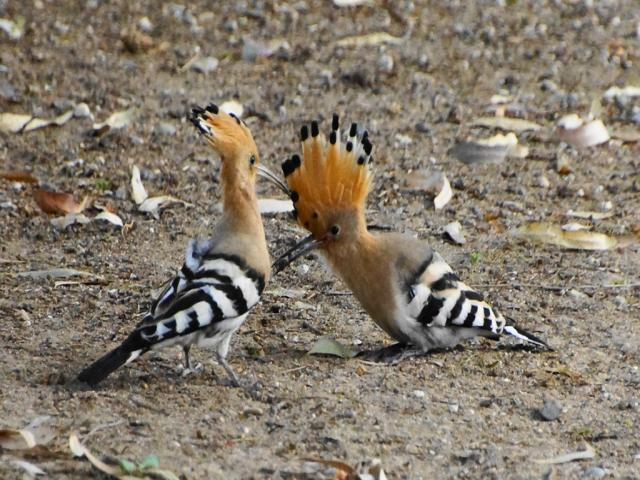Bird: (269, 110, 548, 372), (63, 100, 290, 393)
